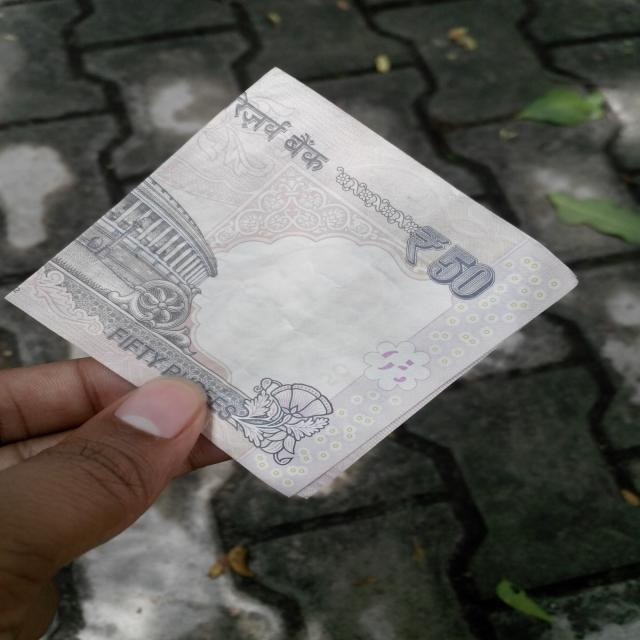50rs: (0, 57, 594, 503)
